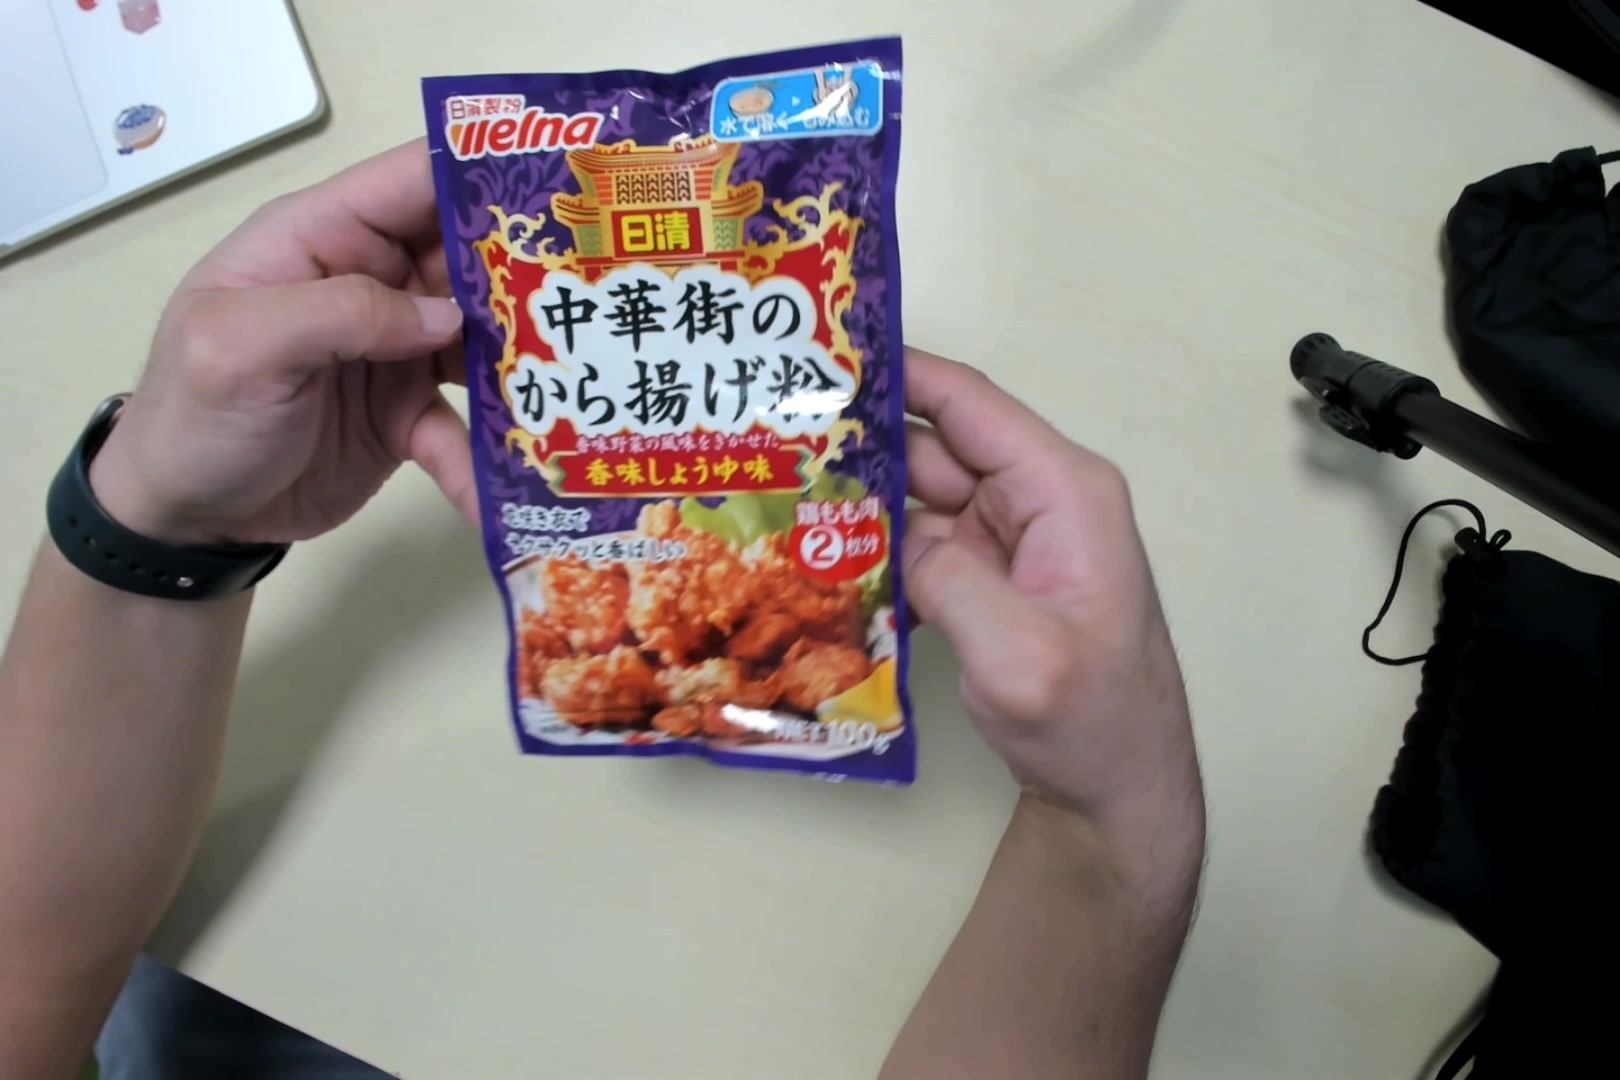OtherBakingNeeds_100-199g_NonHalal_NonHealthy: (413, 31, 909, 792)
